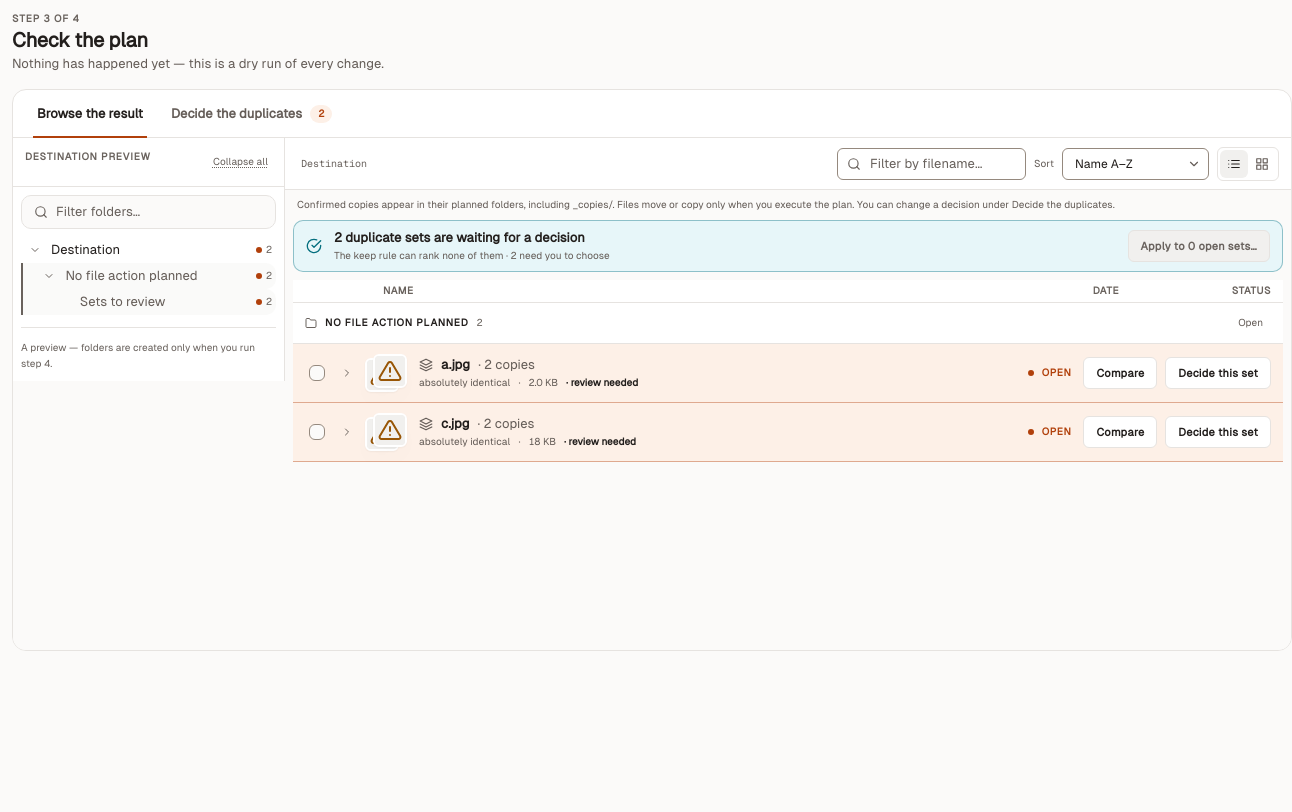
Test: resolve › numbers the queue in the order the list is shown in
The width and height of the screenshot is (1292, 812).
Click the tab "Decide the duplicates 2".
click(252, 114)  # box [159,90,344,137]
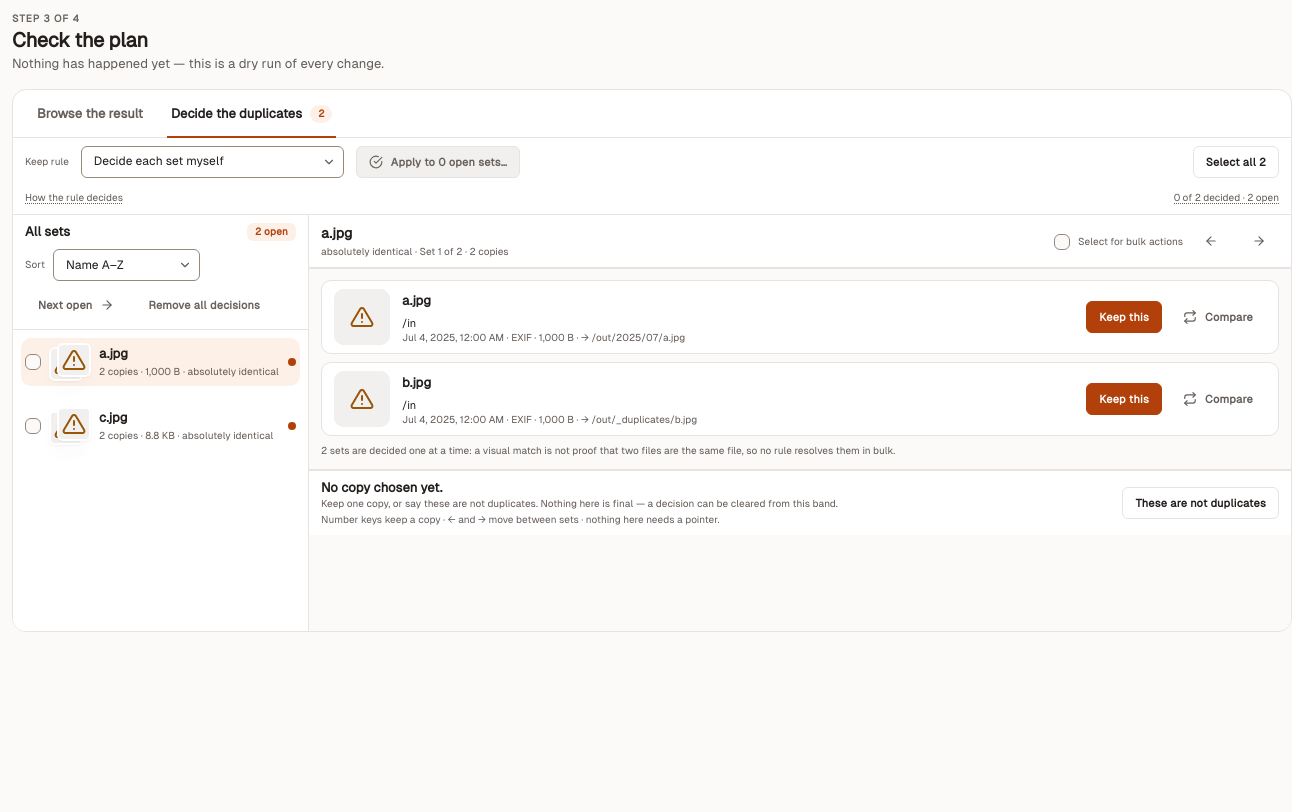
expect the heading "a.jpg" is shown: met, box [321,225,352,241]
Select "Size · largest first" in the dropdown labelled "Sort" at [126, 265], box [53,249,200,281]
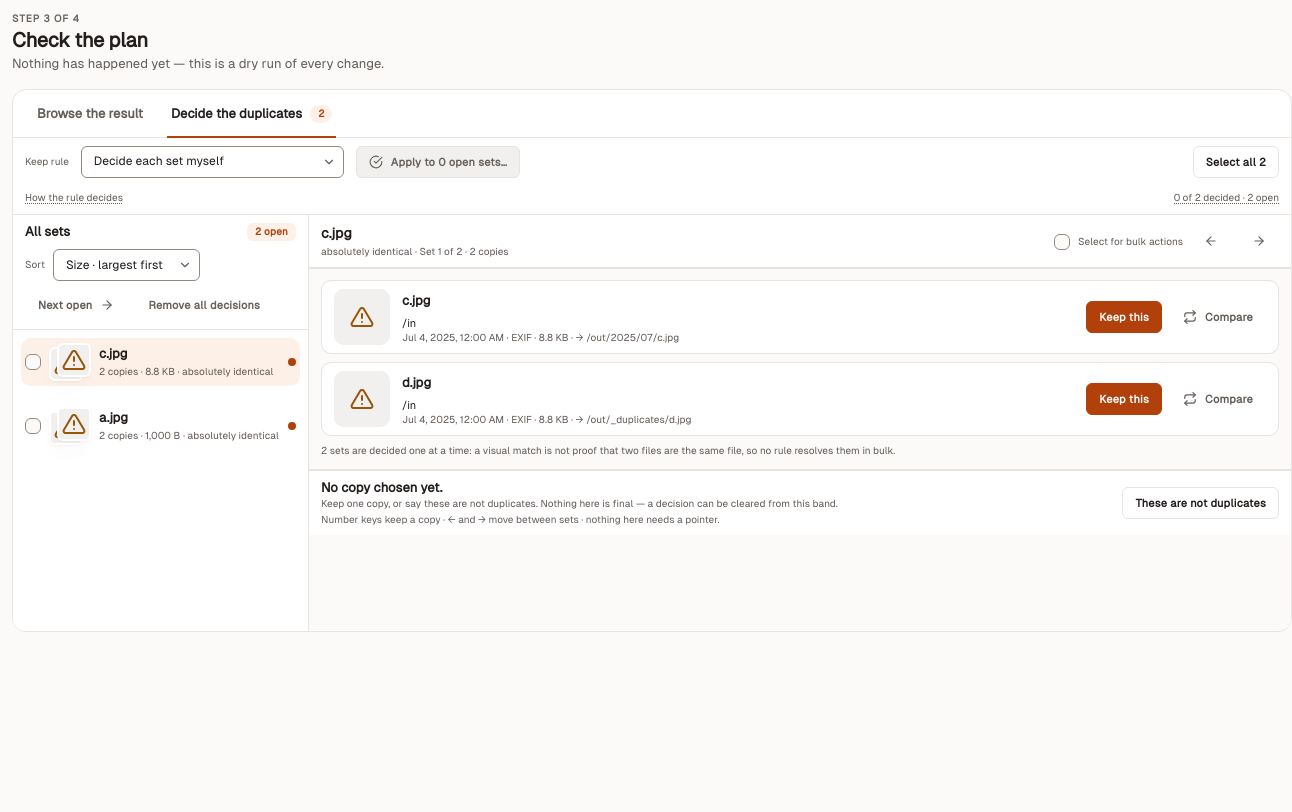
expect the heading "c.jpg" is shown: met, box [321,225,352,241]
Click the button named "Next set".
click(1259, 241)  # box [1239,225,1279,257]
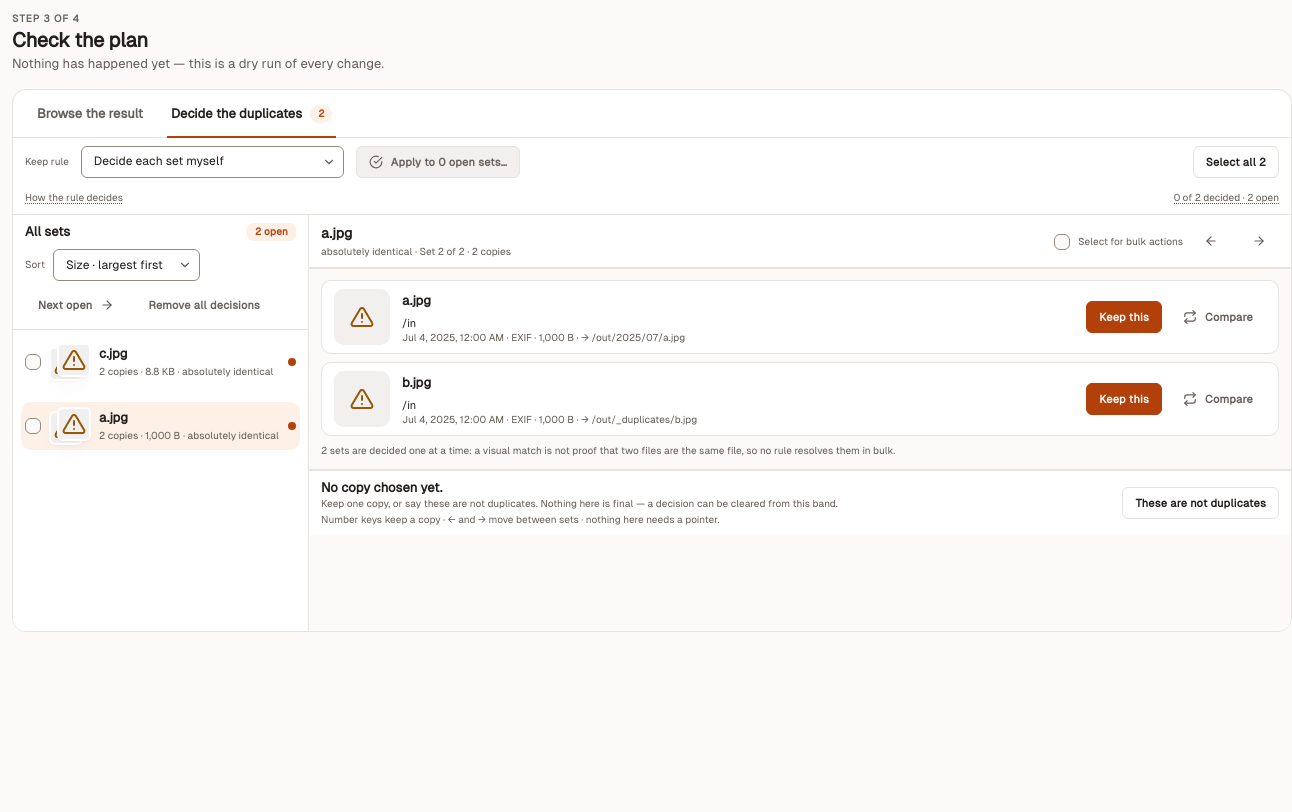
expect the heading "a.jpg" is shown: met, box [321,225,352,241]
